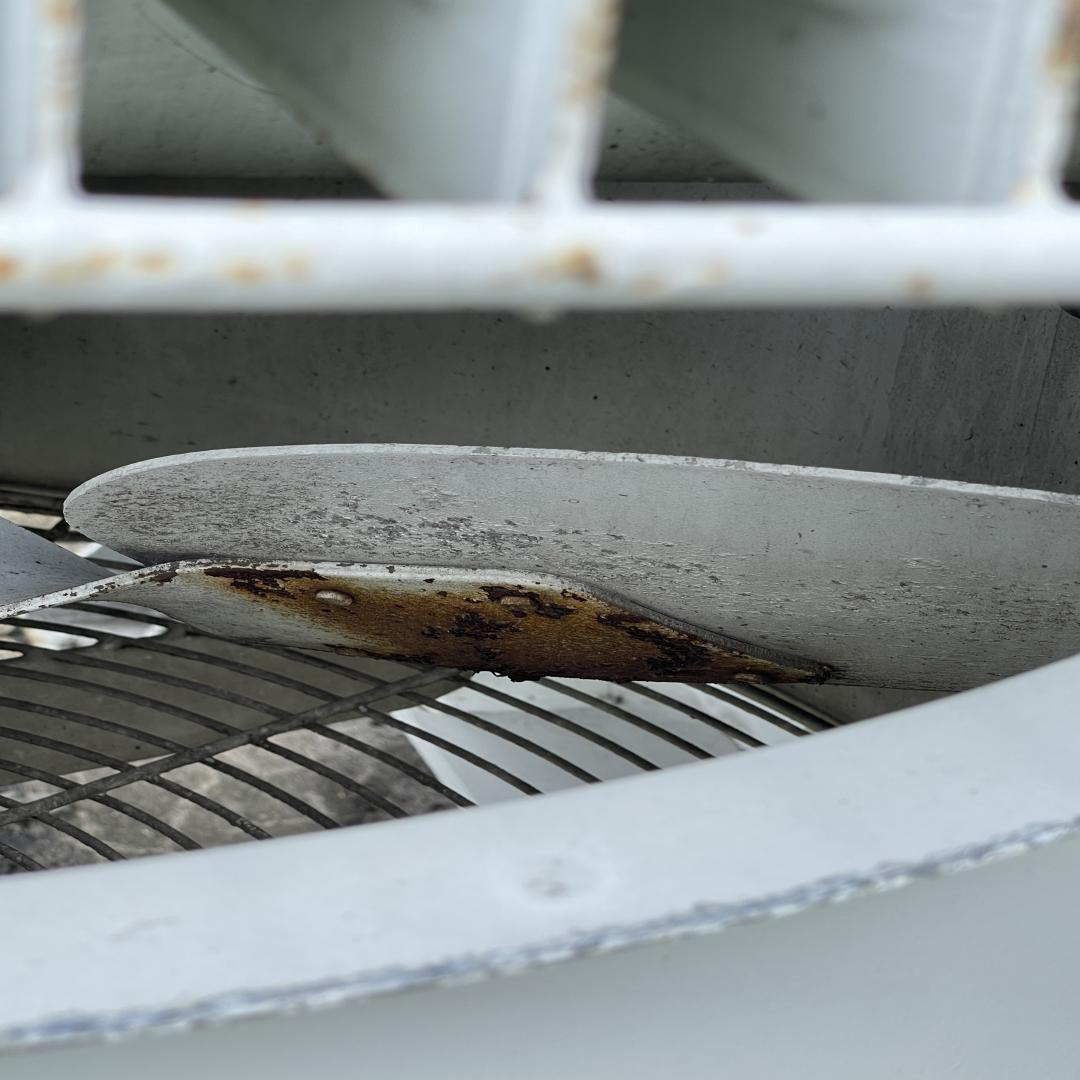Metal: (0, 443, 1080, 1080)
Metal corroido: (196, 560, 843, 686)
